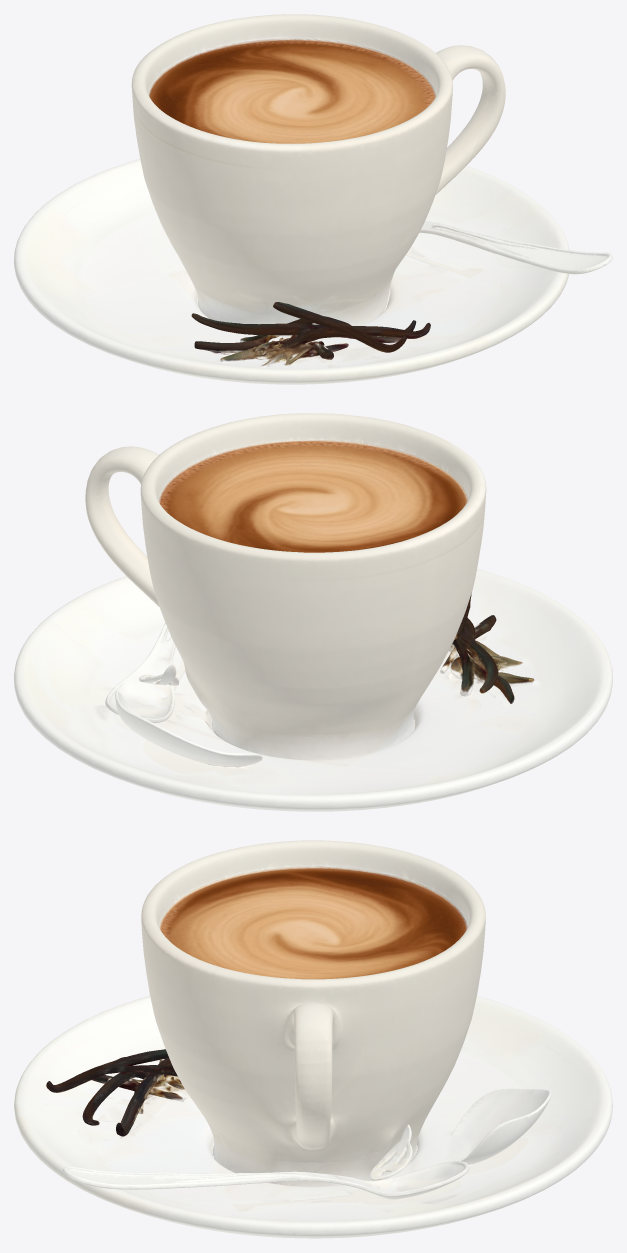
File: Meshy_AI_bois_cheri_tea_cup_0722035605_image-to-3d-texture-v1.glb
The picture shows the model from 3 angles, top to bottom: view 1: azimuth 30°, elevation 25°; view 2: azimuth 150°, elevation 25°; view 3: azimuth 270°, elevation 25°; orthographic projection. The views are drawn at different scales.
Size of the model in its own units: 1.9 by 0.9374 by 1.9.
Materials: 1 (1 with a texture image).
